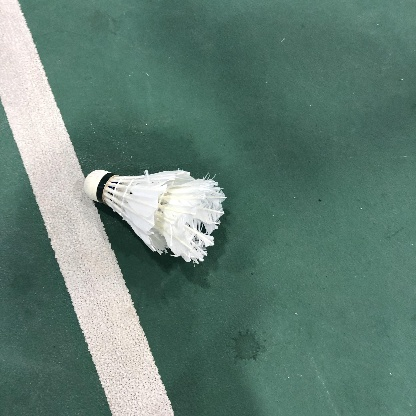ball_single: (84, 170, 226, 264)
